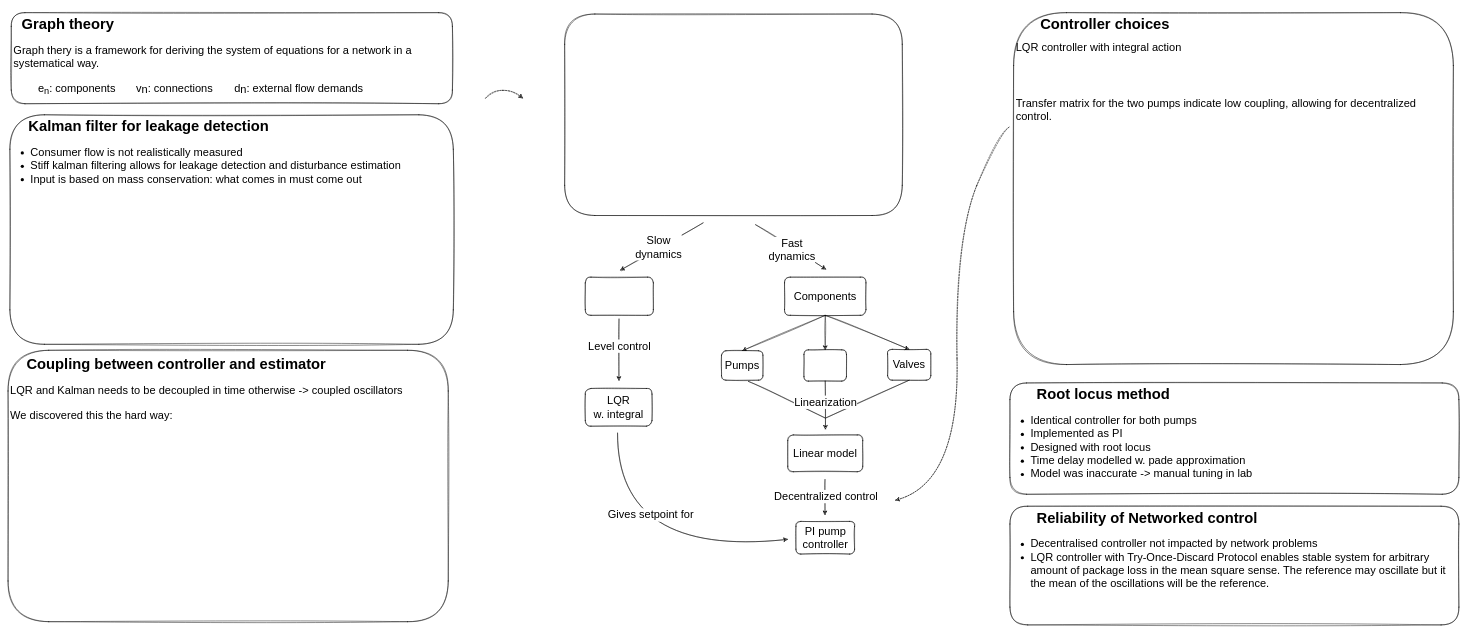
Image size: 1467x633. Some labels were removed from this diagram. The shapes that lost their labels are listed below. From the top down, each one's box as (x1, y1, x2, y2) in pixels, then its label:
(585, 277, 653, 315): Tank
(803, 349, 846, 381): Pipes
